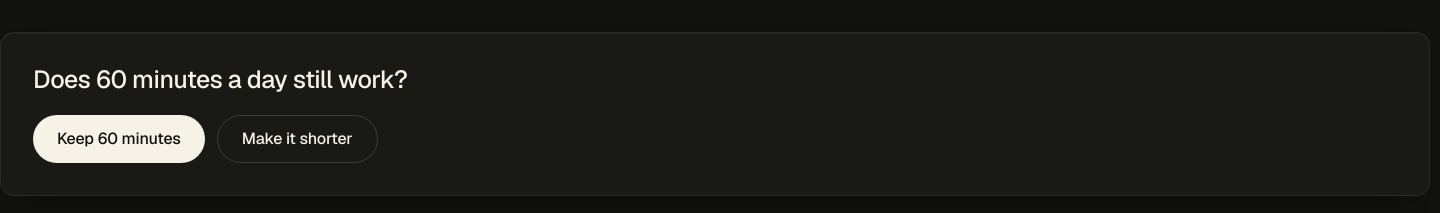
the app lines pass the copy check (M4.1a requirement 2) › the daily-time card, before and after a shorter choice
Click the button "Make it shorter": (297, 139) [217,115,378,163]
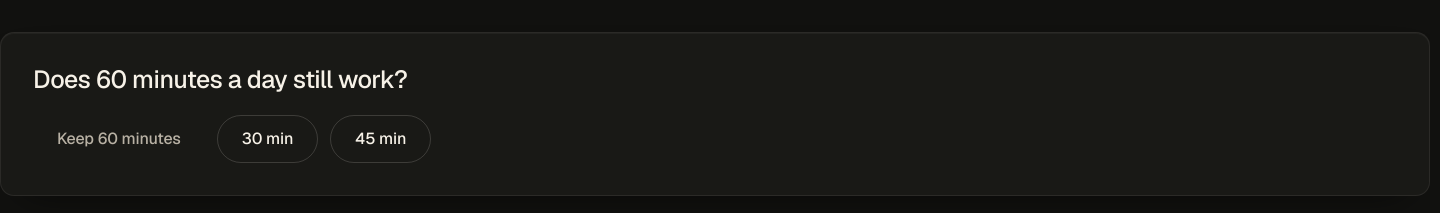
Click the button "30 min": (268, 139) [217,115,318,163]
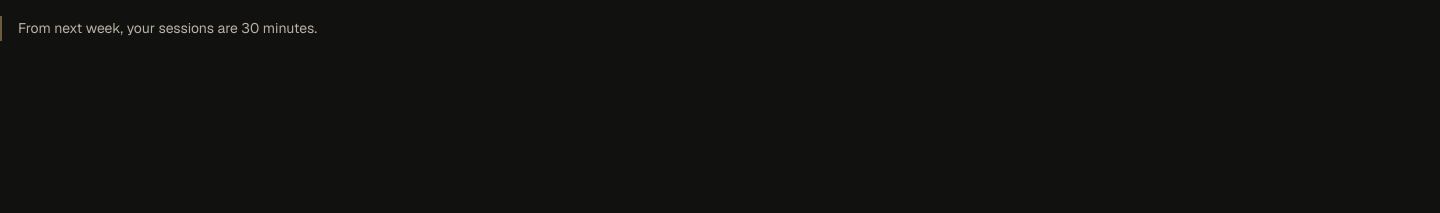
Check: the message reads "From next week, your sessions are 30 minutes.", box [18,19,317,37]
